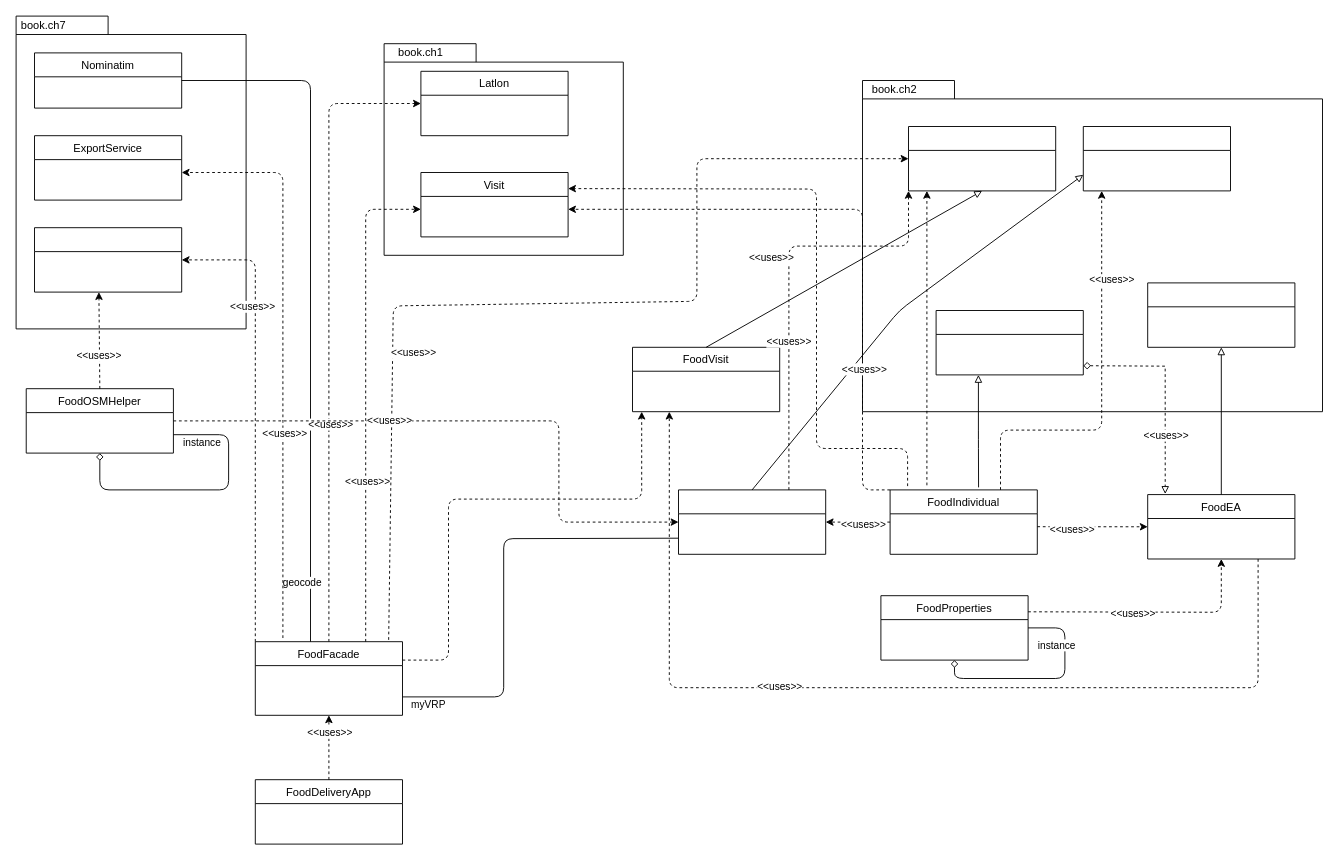
This 1339x860 diagram has some shape labels left out. The shapes that lost their labels are listed below. From the top down, each one's centre as x and y in pixels, then its label:
the point at 982,158: VRPVisit
the point at 1156,158: CvrpProblem
the point at 108,259: Journey
the point at 1221,314: VRPea
the point at 1009,342: Individual
the point at 752,521: FoodProblem
